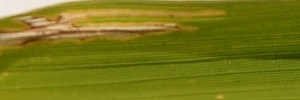RiceBacterialBlight: (2, 7, 228, 49)
